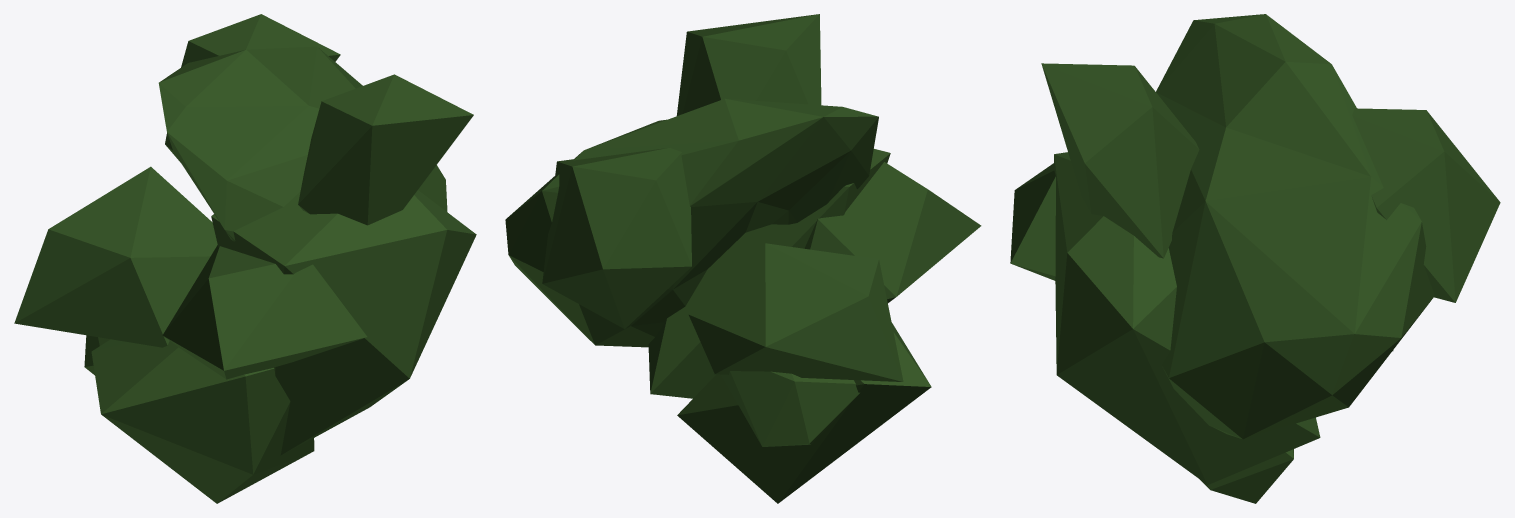
The model's file is SM_bushes_hanging_03.fbx.
3 renders of one model, left to right at view 1: azimuth 30°, elevation 25°; view 2: azimuth 150°, elevation 25°; view 3: azimuth 270°, elevation 25°, orthographic. The views are drawn at different scales.
Parts seen in each view (by area): view 1: Object144; view 2: Object144; view 3: Object144.
Part boxes in pixels (<box>): Object144: <box>14,14,476,503</box>; Object144: <box>505,14,981,503</box>; Object144: <box>1010,14,1500,503</box>.
Bounding box in the file's own units: 145 × 146 × 139.
